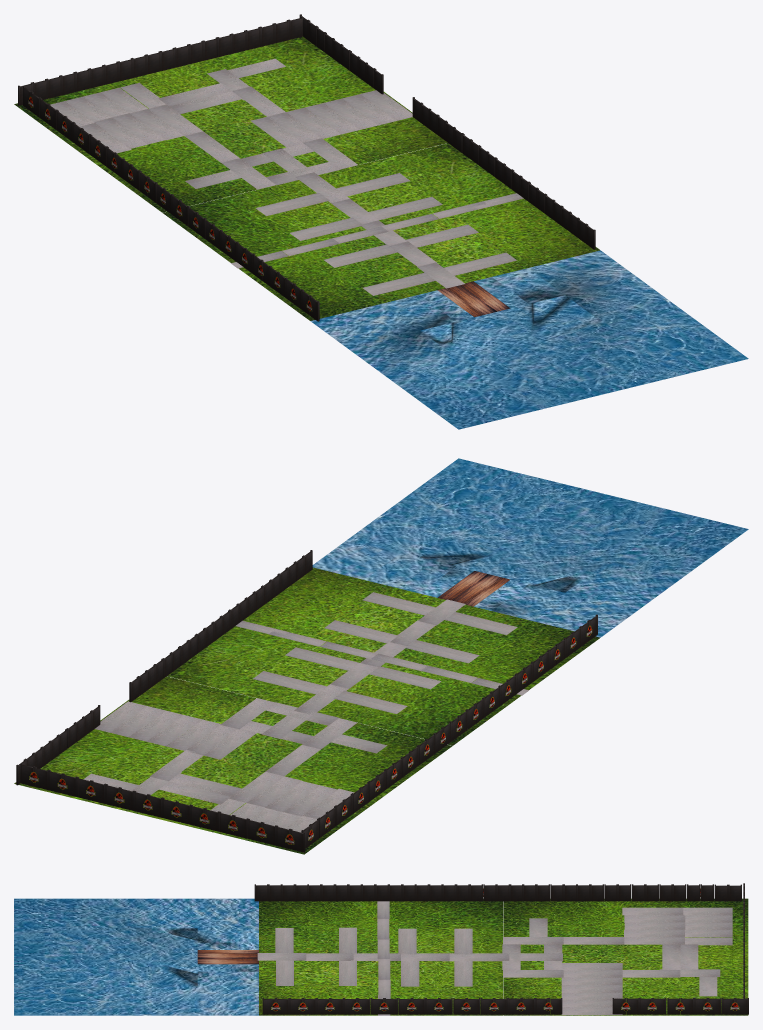
The model's file is piscocalle2.obj.
The picture shows the model from 3 angles, top to bottom: view 1: azimuth 30°, elevation 25°; view 2: azimuth 150°, elevation 25°; view 3: azimuth 270°, elevation 25°; orthographic projection. The views are drawn at different scales.
Parts seen in each view (by area): view 1: Plane_Plane.006, Plane_Plane.004, Plane_Plane.005, Plane.015_Plane.001, Plane.013_Plane.001, Plane.014_Plane.001, Plane.016_Plane.001, Plane.012_Plane.001, Plane.018_Plane.001, Plane.017_Plane.001, Plane.063, Plane.058 (+16 smaller); view 2: Plane_Plane.006, Plane_Plane.004, Plane_Plane.005, Plane.014_Plane.001, Plane.015_Plane.001, Plane.016_Plane.001, Plane.017_Plane.001, Plane.012_Plane.001, Plane.018_Plane.001, Plane.057, Plane.080, Plane.056 (+18 smaller); view 3: Plane_Plane.006, Plane_Plane.004, Plane_Plane.005, Plane.074, Plane.067, Plane.014_Plane.001, Plane.013_Plane.001, Plane.058, Plane.070, Plane.080, Plane.073, Plane.079 (+71 smaller).
Boxes of the visible parts, x1,y1,x2,y2 form: Plane_Plane.006: (310,250,748,429); Plane_Plane.004: (163,143,599,320); Plane_Plane.005: (14,36,447,212); Plane.015_Plane.001: (336,173,409,196); Plane.013_Plane.001: (290,217,363,240); Plane.014_Plane.001: (255,192,329,215); Plane.016_Plane.001: (368,196,442,219); Plane.012_Plane.001: (324,244,397,267); Plane.018_Plane.001: (444,252,516,275); Plane.017_Plane.001: (405,224,478,247); Plane.063: (169,91,242,114); Plane.058: (184,131,239,162); Plane_Plane.006: (312,458,748,637); Plane_Plane.004: (167,567,600,745); Plane_Plane.005: (14,676,452,854); Plane.014_Plane.001: (333,690,407,713); Plane.015_Plane.001: (253,671,326,694); Plane.016_Plane.001: (285,647,358,670); Plane.017_Plane.001: (324,620,398,643); Plane.012_Plane.001: (405,640,479,663); Plane.018_Plane.001: (362,592,435,615); Plane.057: (220,698,275,729); Plane.080: (147,715,202,746); Plane.056: (302,718,357,749); Plane_Plane.006: (14,898,258,1015); Plane_Plane.004: (259,899,502,1015); Plane_Plane.005: (503,898,748,1015); Plane.074: (622,907,683,915); Plane.067: (624,929,684,937); Plane.014_Plane.001: (454,928,472,954); Plane.013_Plane.001: (398,928,416,954); Plane.058: (563,937,624,944); Plane.070: (624,922,685,929); Plane.080: (561,985,622,992); Plane.073: (624,915,685,922); Plane.079: (561,977,622,984).
Size of the model in its own units: 229 by 15.2 by 605.
